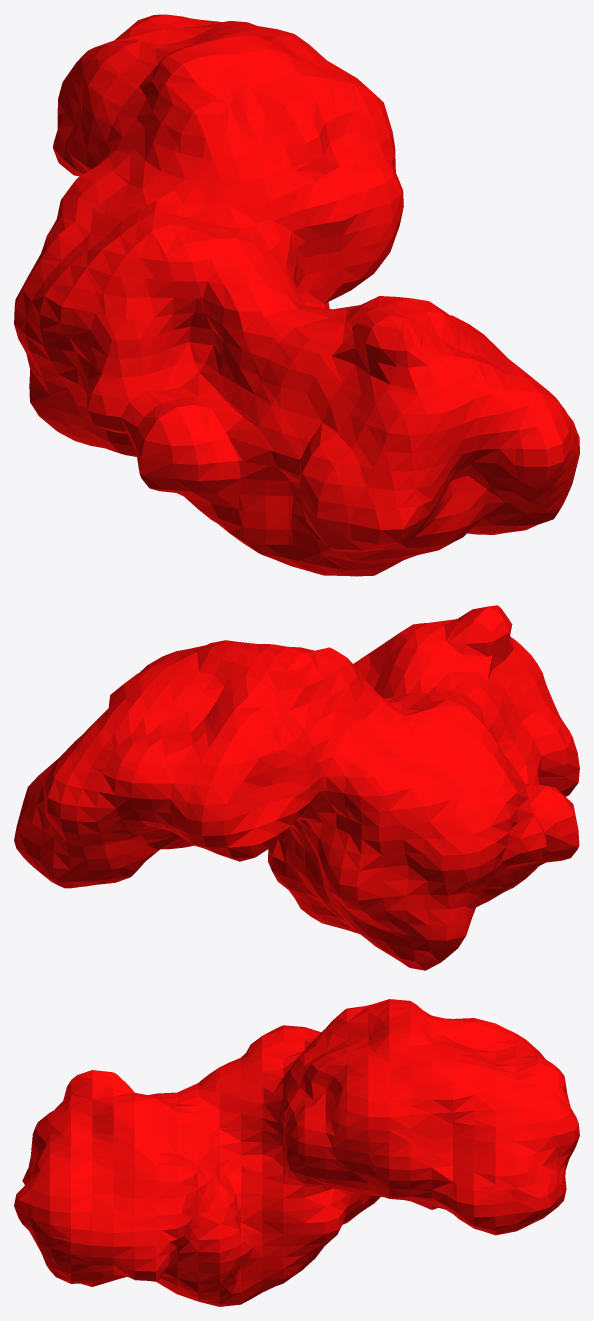
File: ycbZ_coarse.dae
The picture shows the model from 3 angles, top to bottom: view 1: azimuth 30°, elevation 25°; view 2: azimuth 150°, elevation 25°; view 3: azimuth 270°, elevation 25°; orthographic projection. The views are drawn at different scales.
Visible parts, largest first — view 1: ycbZ; view 2: ycbZ; view 3: ycbZ.
Boxes of the visible parts, x1,y1,x2,y2 form: ycbZ: [14, 14, 579, 576]; ycbZ: [14, 605, 579, 970]; ycbZ: [14, 999, 579, 1306].
Size of the model in its own units: 65.88 by 59.85 by 106.
